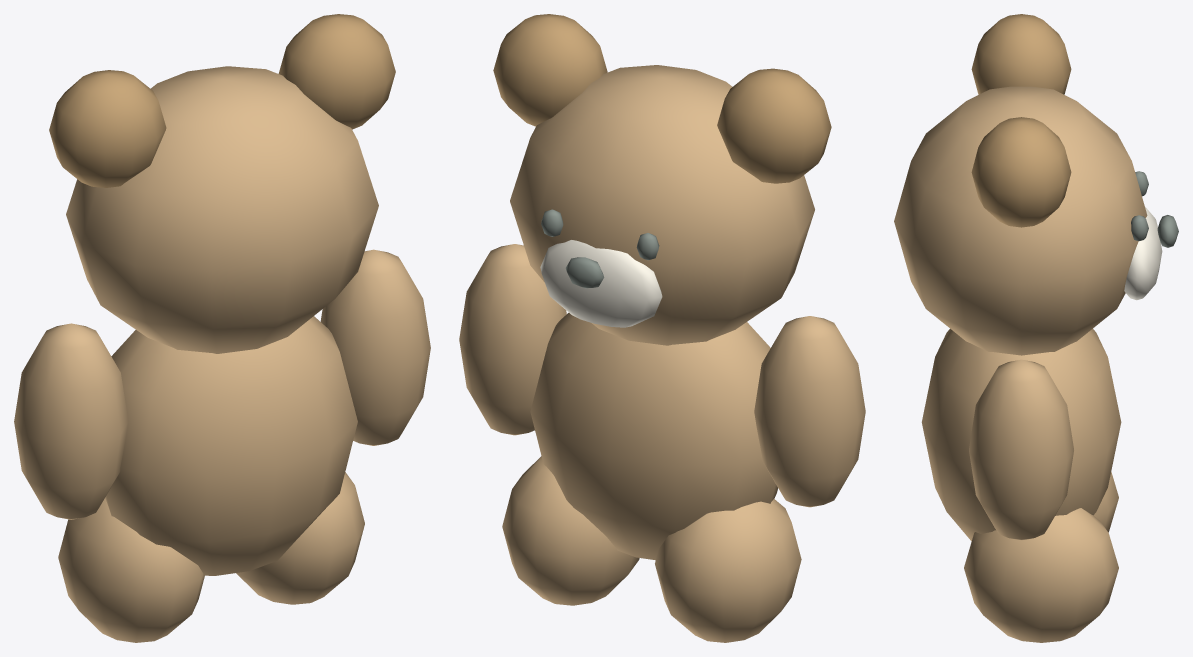
The model's file is lost_teddy.glb.
The picture shows the model from 3 angles, left to right: view 1: azimuth 30°, elevation 25°; view 2: azimuth 150°, elevation 25°; view 3: azimuth 270°, elevation 25°; orthographic projection. The views are drawn at different scales.
Bounding box in the file's own units: 0.385 × 0.53 × 0.257.
